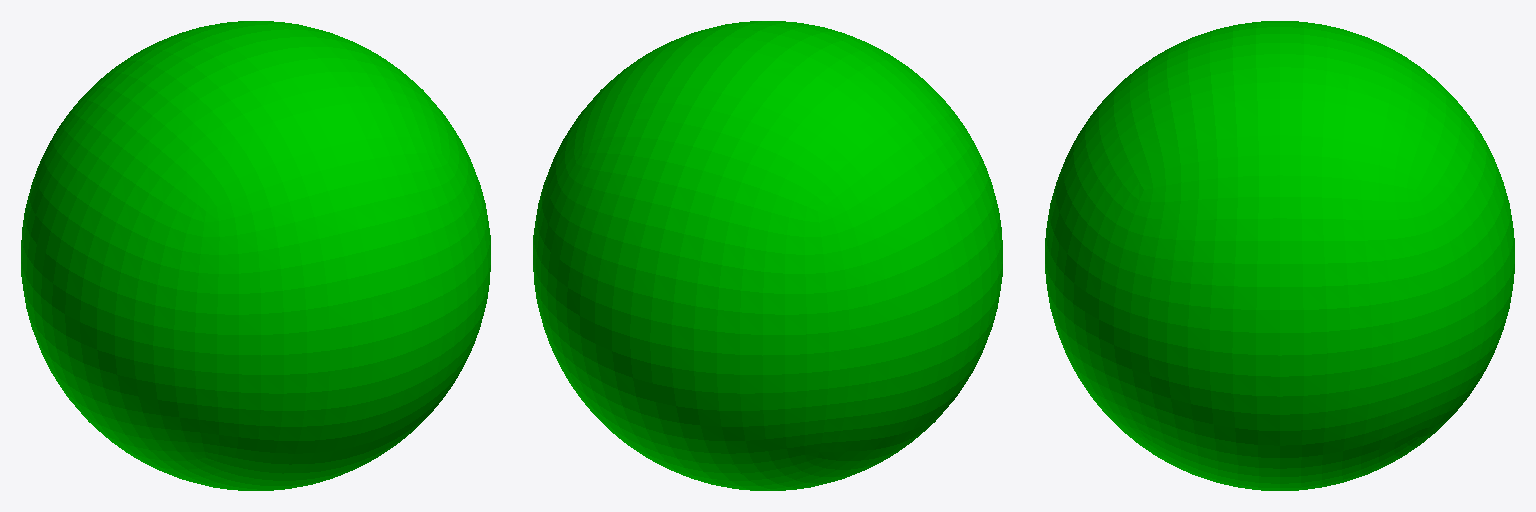
The model's file is pelota.obj.
3 views of the same model, side by side, from view 1: azimuth 30°, elevation 25°; view 2: azimuth 150°, elevation 25°; view 3: azimuth 270°, elevation 25° (orthographic).
Visible parts, largest first — view 1: Cube_Cube.001; view 2: Cube_Cube.001; view 3: Cube_Cube.001.
Part boxes in pixels (x1,y1,x2,y2): Cube_Cube.001: (21,21,490,490); Cube_Cube.001: (533,21,1002,490); Cube_Cube.001: (1045,21,1514,490).
Bounding box in the file's own units: 1.71 × 1.71 × 1.71.